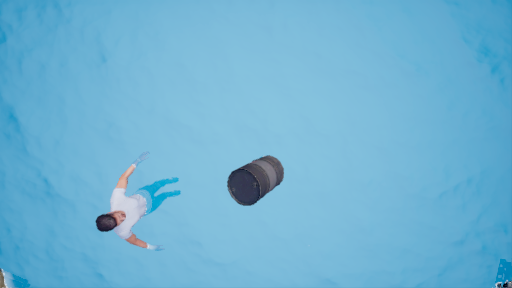person: (84, 155, 190, 247)
